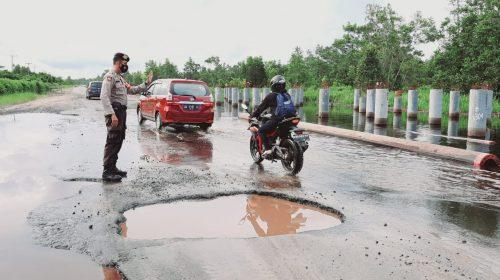Pothole: (109, 188, 385, 248), (58, 172, 114, 185)
